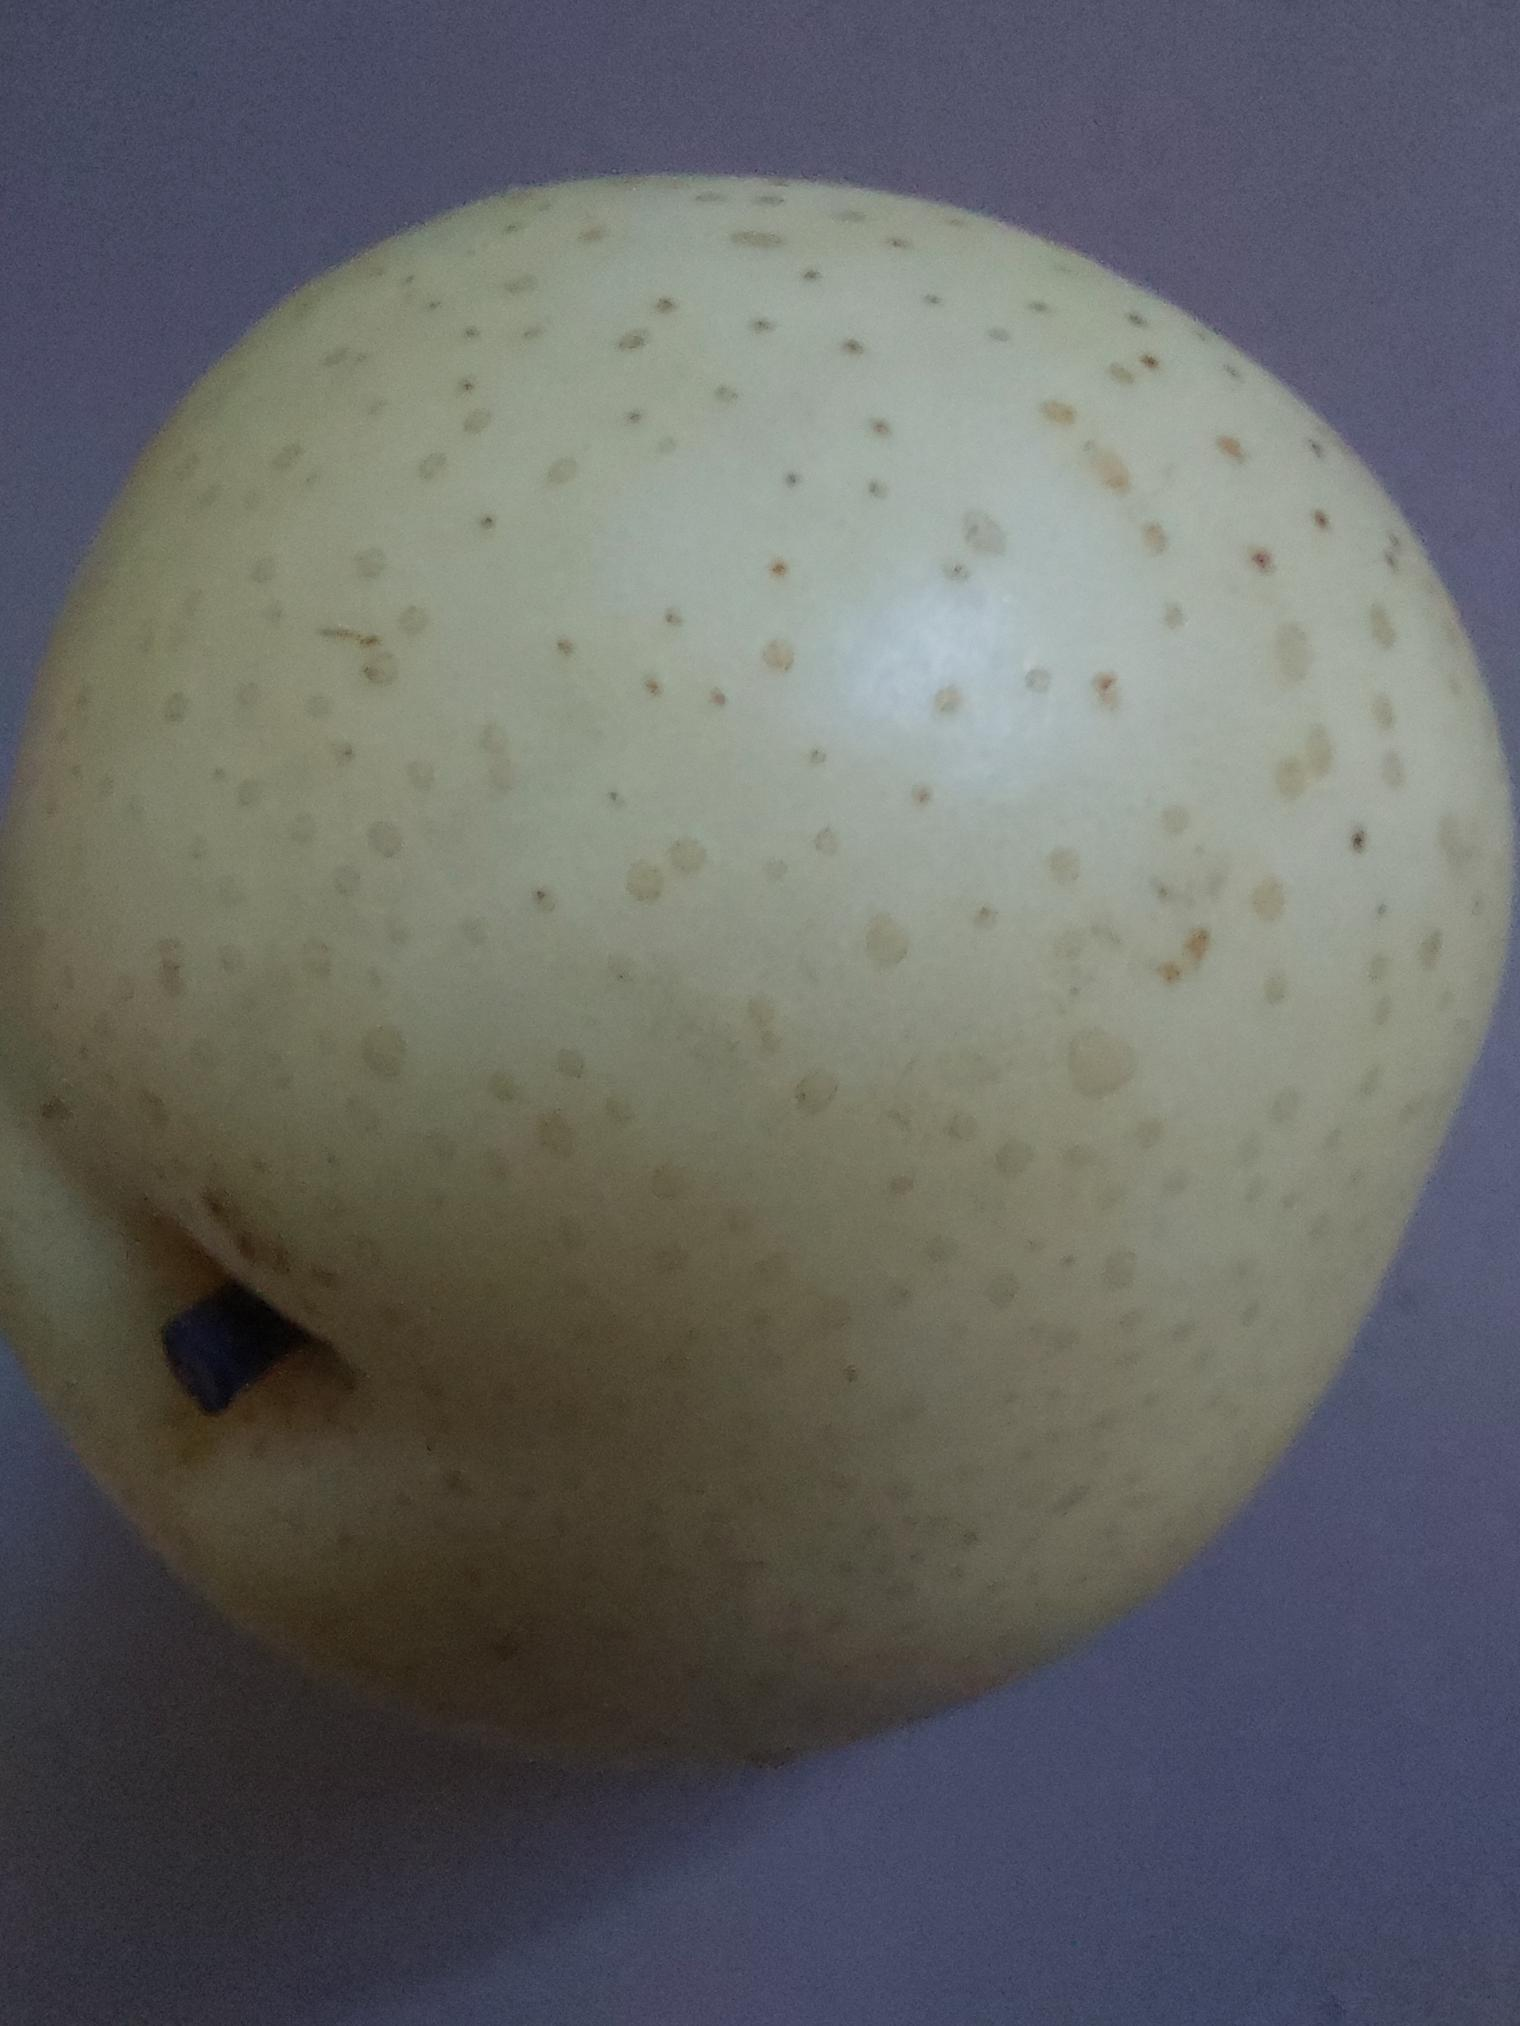Good Pear: (6, 115, 1520, 1876)
